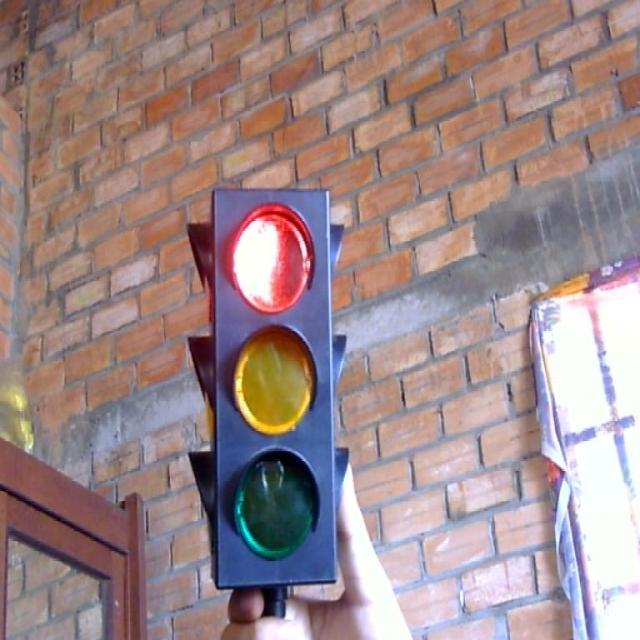red light: (224, 194, 316, 318)
